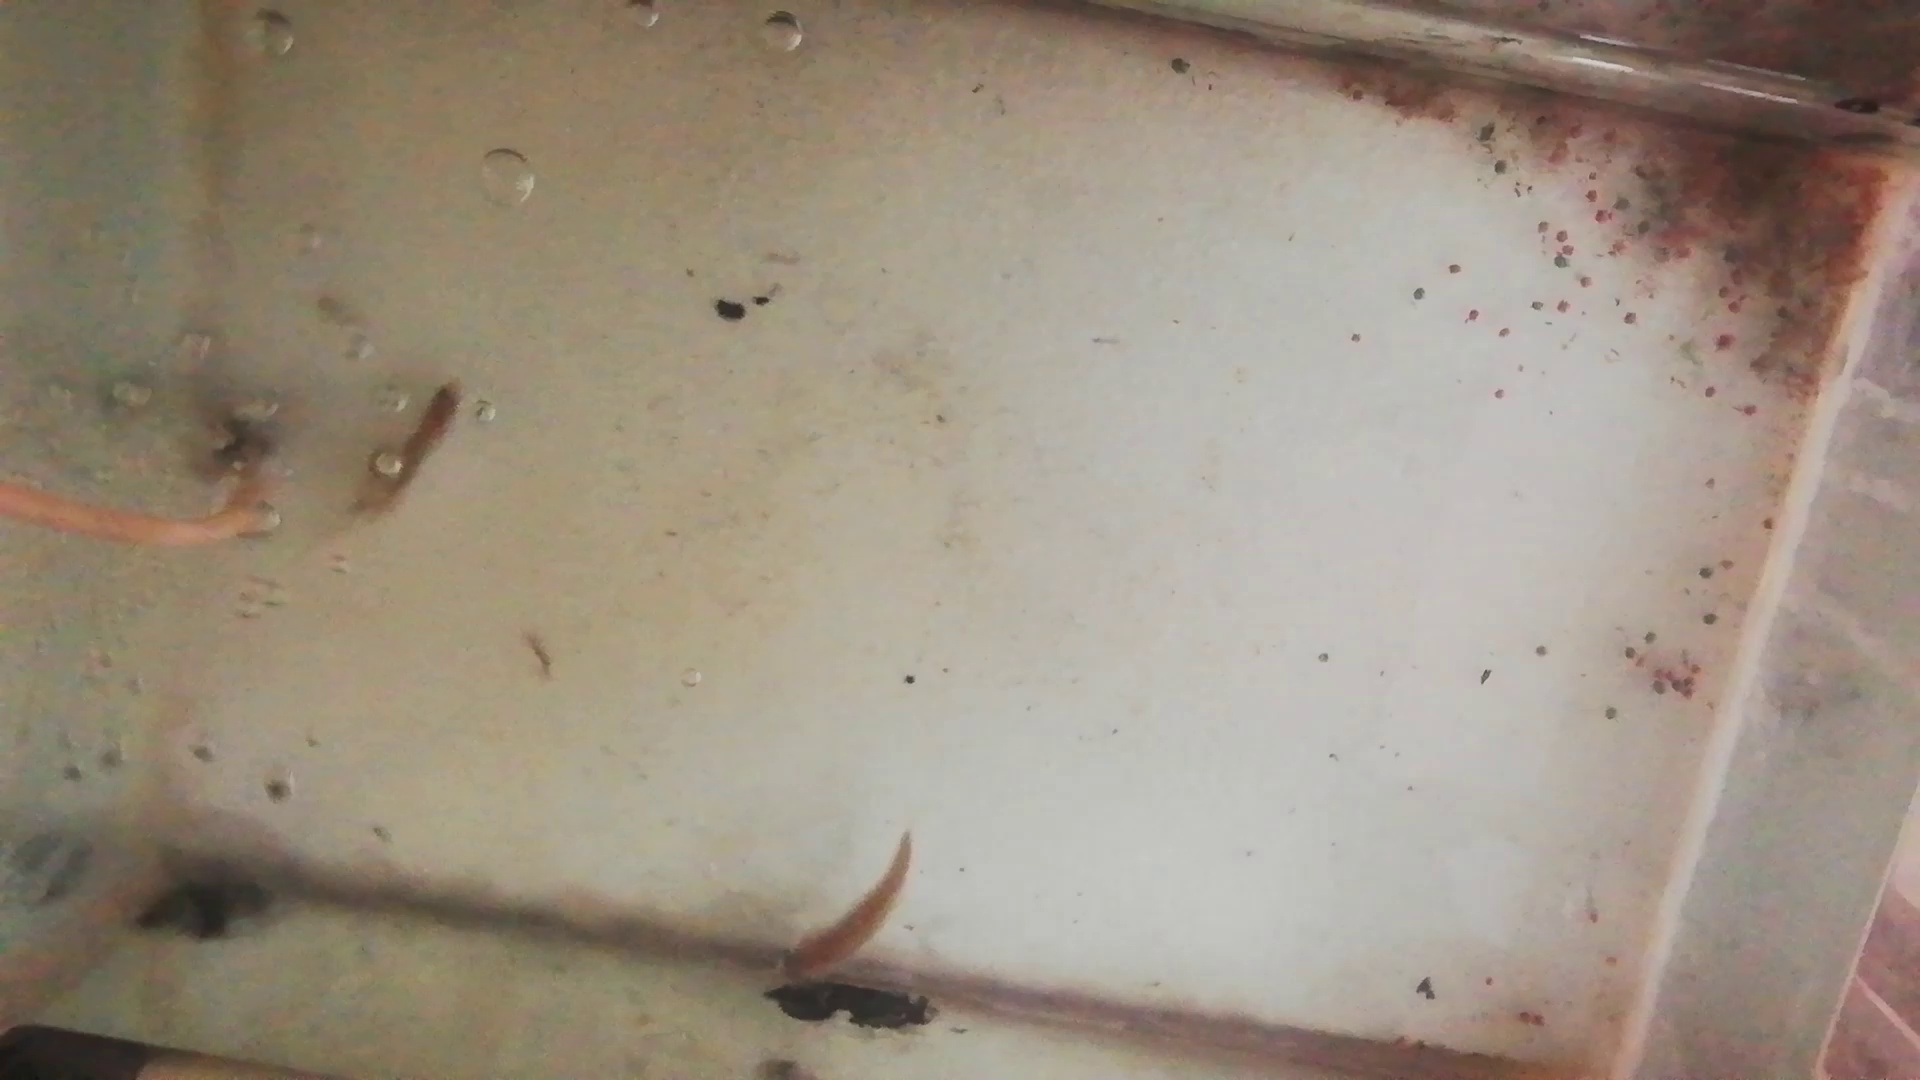fish: (774, 825, 919, 989), (344, 377, 469, 527)
